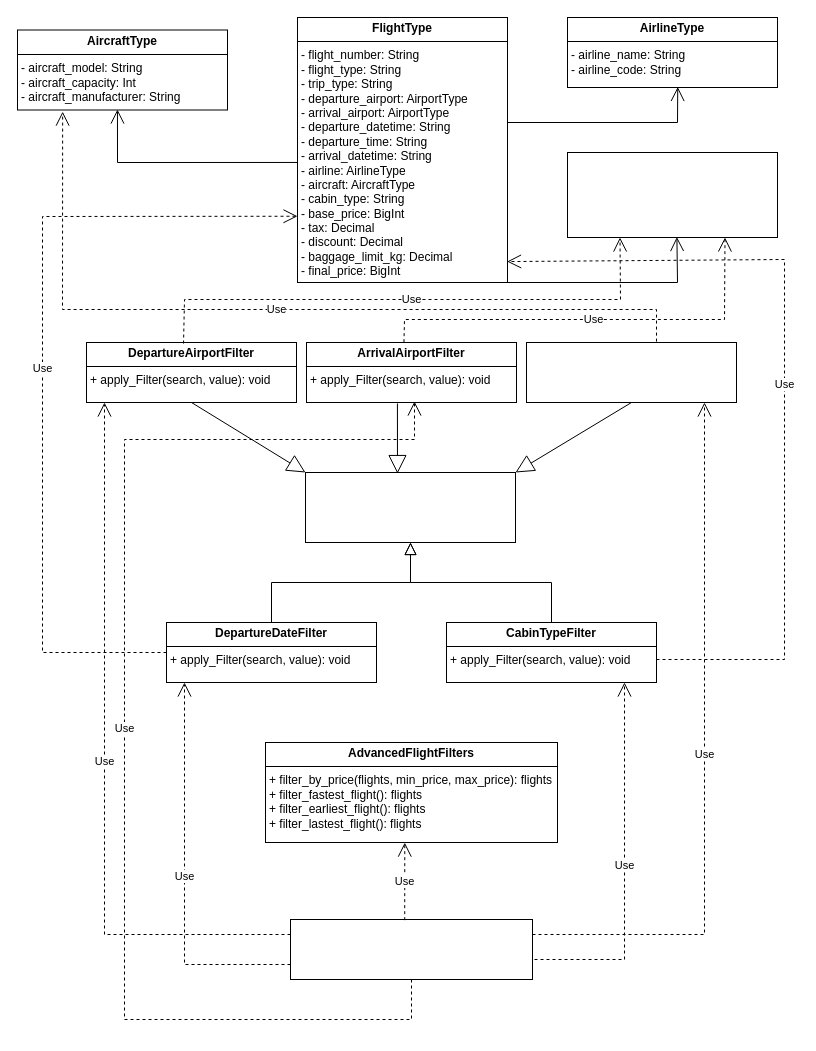
This 816x1051 diagram has some shape labels left out. Here are the shapes that lost their labels. From the top down, the centre of each, then its label:
At (x=672, y=195): "AirportType - airport_name: String - airport_code: String - airport_city: String".
At (x=631, y=372): "AircraftCapacityFilter + apply_Filter(search, value): void".
At (x=410, y=507): "<< abstract >> FilterStrategy + apply_Filter(search, value): void".
At (x=411, y=949): "FlightsQuery + resolve_flights(): flights, airline_names, ...".
